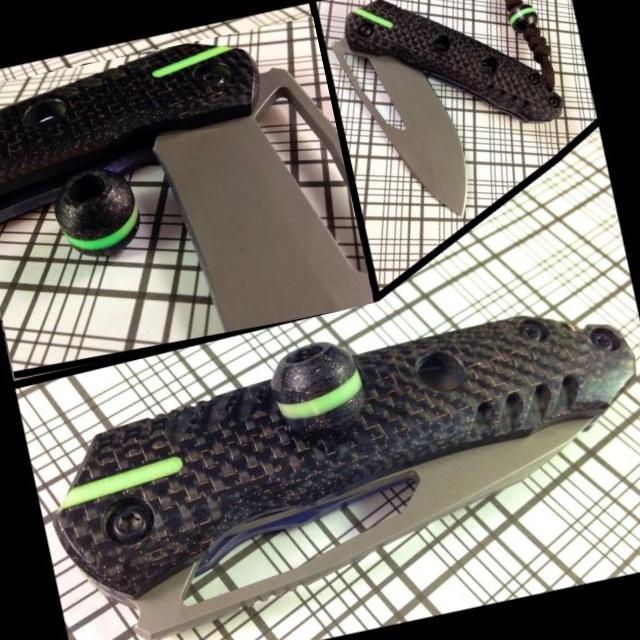Knife: (55, 316, 633, 597), (0, 43, 373, 329), (334, 0, 564, 213)
